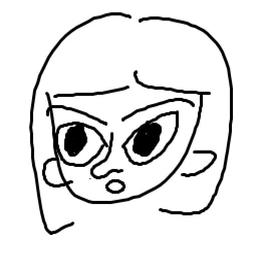ear: (174, 141, 219, 182), (38, 155, 67, 190)
eye: (121, 108, 179, 168), (51, 123, 111, 167)
eyebrow: (122, 95, 200, 124), (44, 102, 113, 128)
nose: (87, 128, 123, 178)
pointy_nose: (103, 177, 129, 196)
